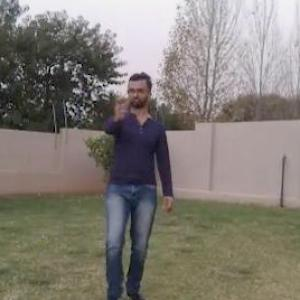takeoff-hand: (103, 86, 132, 124)
